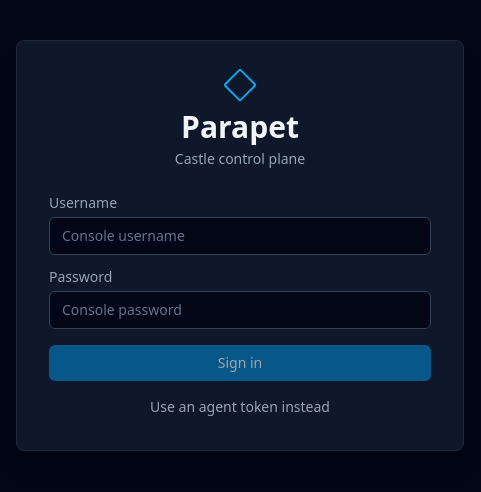
Test case: LoginPage agent-token mode (secondary option) › switching modes clears the error
The image size is (481, 492).
Type "operator" into the field with test id "login-username" at x=240, y=236, box [49,216,431,254]
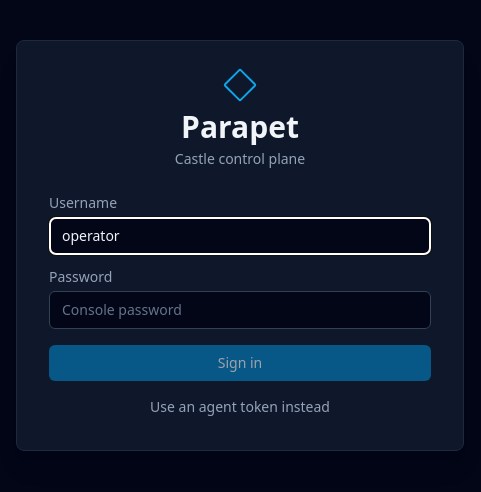
Type "bad" into the password field with test id "login-password" at x=240, y=310, box [49,290,431,328]
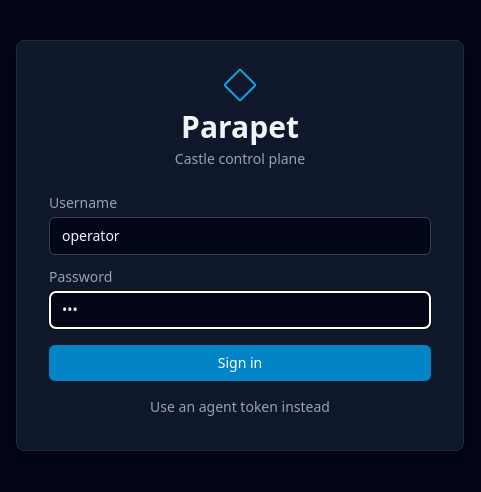
Click the button with test id "login-submit" at x=240, y=362, box [49,344,431,380]
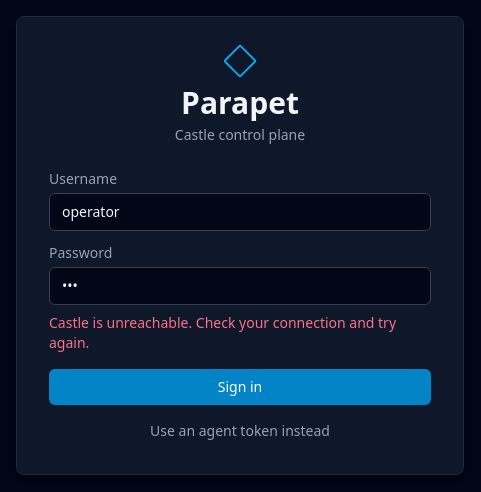
Expected: the message "Castle is unreachable. Check your connection and try again." is shown, [49,312,431,352]
Click the button with test id "login-mode-toggle" at x=240, y=430, box [49,420,431,440]
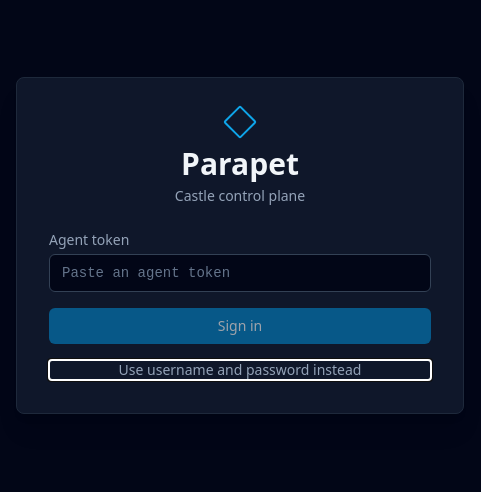
Expected: the password field with test id "login-error" is gone
